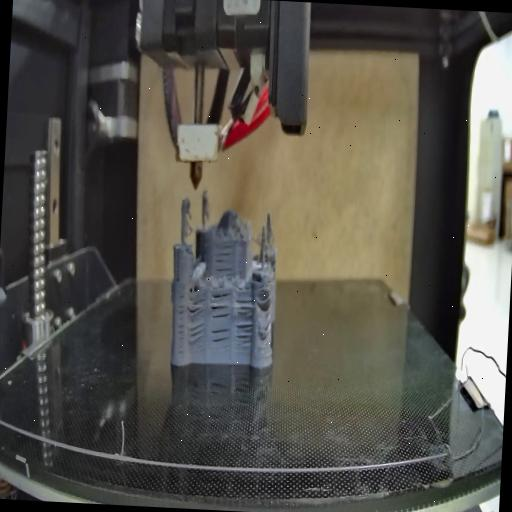cracks: (234, 296, 254, 351), (174, 289, 184, 364), (213, 243, 235, 275), (211, 290, 233, 320), (186, 291, 208, 318), (184, 320, 206, 346), (210, 324, 230, 346), (255, 321, 273, 344), (257, 290, 272, 312)
